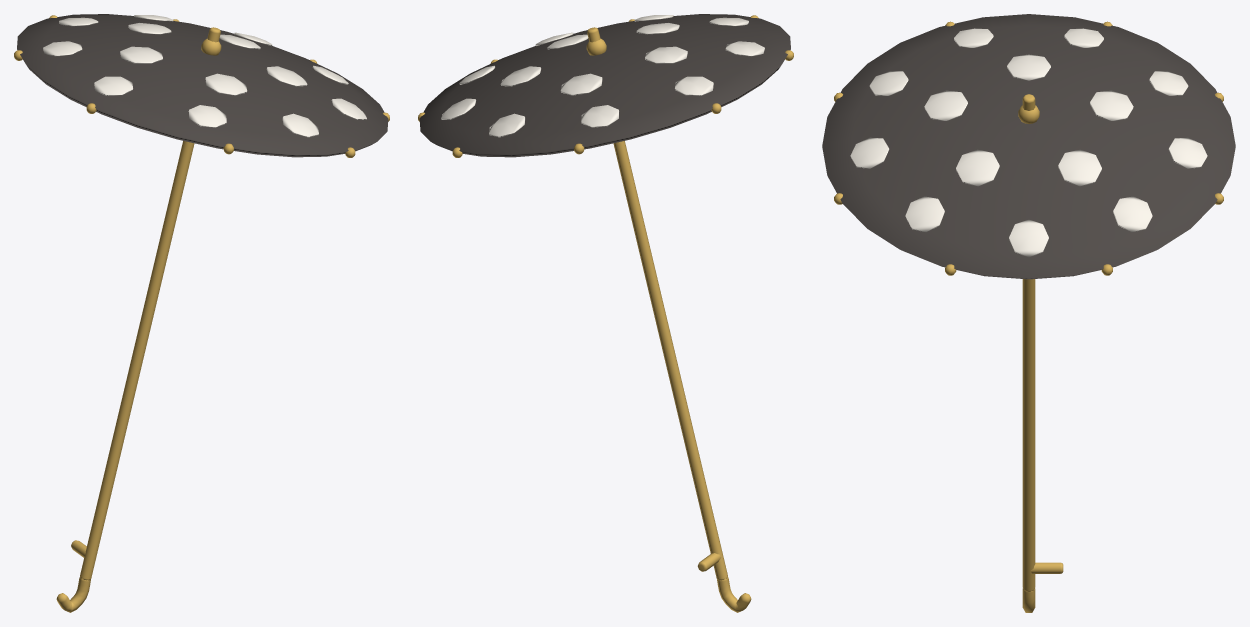
The model's file is black_lace_umbrella.glb.
3 views of the same model, side by side, from view 1: azimuth 30°, elevation 25°; view 2: azimuth 150°, elevation 25°; view 3: azimuth 270°, elevation 25° (orthographic). The views are drawn at different scales.
Parts seen in each view (by area): view 1: black_lace_umbrella_ArmR; view 2: black_lace_umbrella_ArmR; view 3: black_lace_umbrella_ArmR.
Boxes of the visible parts, box(x1,y1,x2,y2) form: black_lace_umbrella_ArmR: box(14, 14, 389, 612); black_lace_umbrella_ArmR: box(418, 14, 793, 612); black_lace_umbrella_ArmR: box(822, 14, 1235, 612).
Size of the model in its own units: 0.8703 by 1.42 by 0.9.
